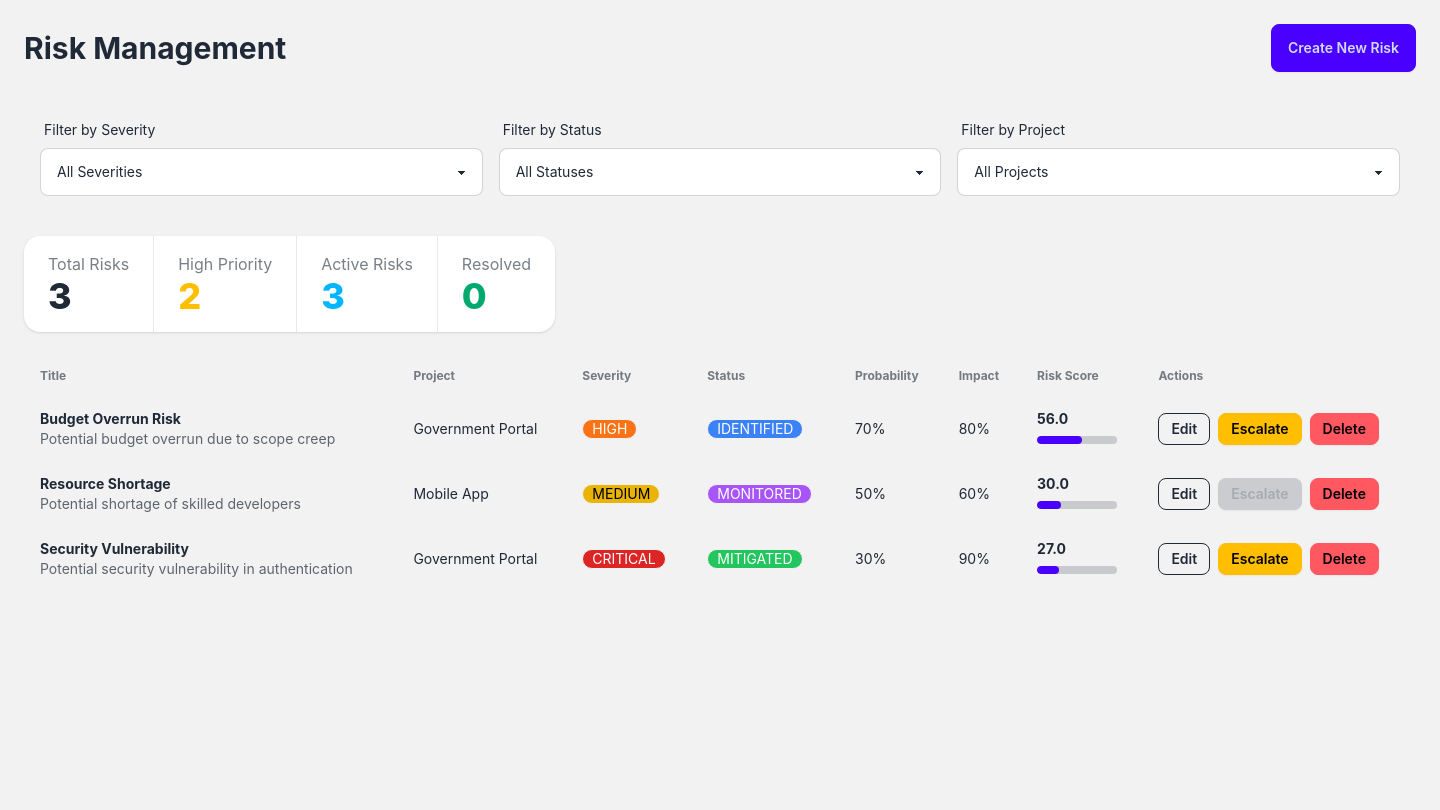
Test case: RiskManagement Component › filters risks by severity
Select "High" in the dropdown labelled "Filter by Severity" at (261, 172), box [40,148,483,196]
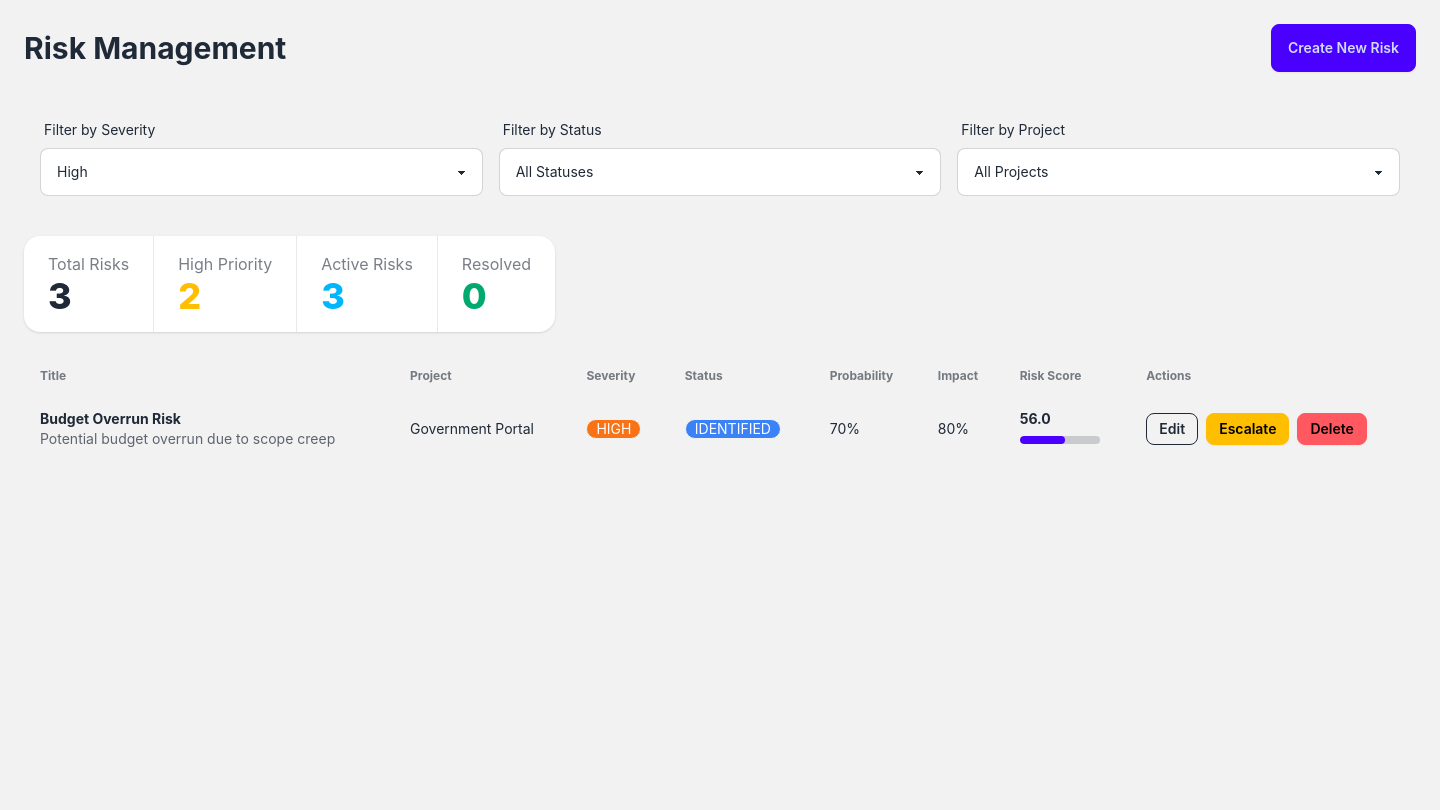
Expected: the text "Budget Overrun Risk" is shown, [40,410,181,427]
Result: the text "Resource Shortage" is gone
Result: the text "Security Vulnerability" is gone
